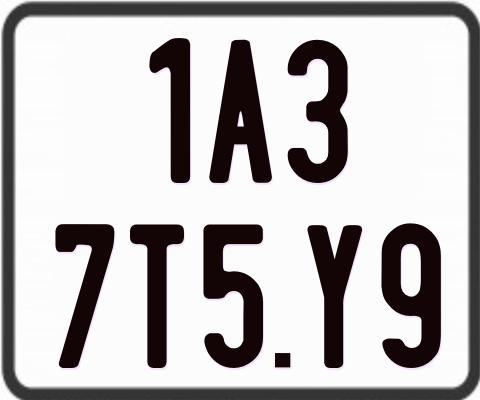1: (147, 35, 194, 183)
3: (285, 37, 351, 180)
5: (201, 224, 265, 371)
7: (54, 223, 117, 370)
9: (381, 220, 443, 371)
A: (207, 37, 271, 184)
T: (128, 224, 187, 371)
Y: (305, 225, 365, 372)
